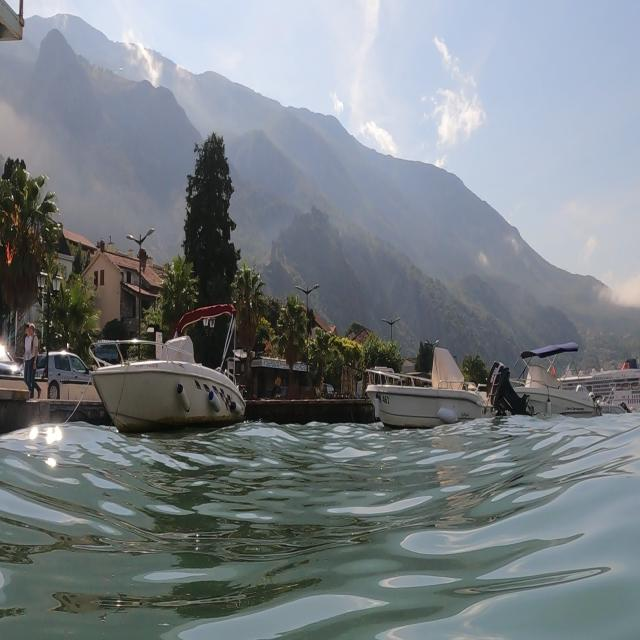boat: (88, 300, 248, 435), (361, 339, 501, 437), (498, 330, 608, 426)
